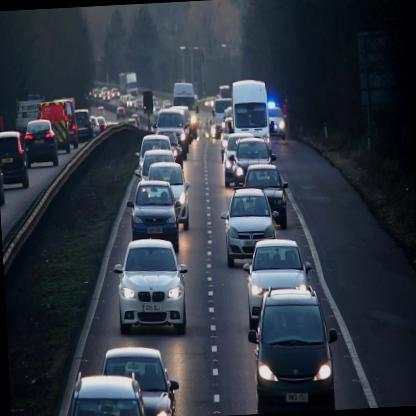car: (245, 284, 342, 414), (110, 235, 190, 336), (241, 235, 313, 325), (218, 187, 282, 270), (126, 178, 183, 252), (239, 164, 290, 232), (148, 161, 192, 232), (228, 138, 278, 186), (220, 132, 258, 186), (153, 107, 190, 161), (0, 130, 31, 193), (22, 119, 58, 167), (134, 150, 176, 181), (73, 108, 93, 140)
truck: (230, 77, 270, 151), (171, 82, 196, 137)
